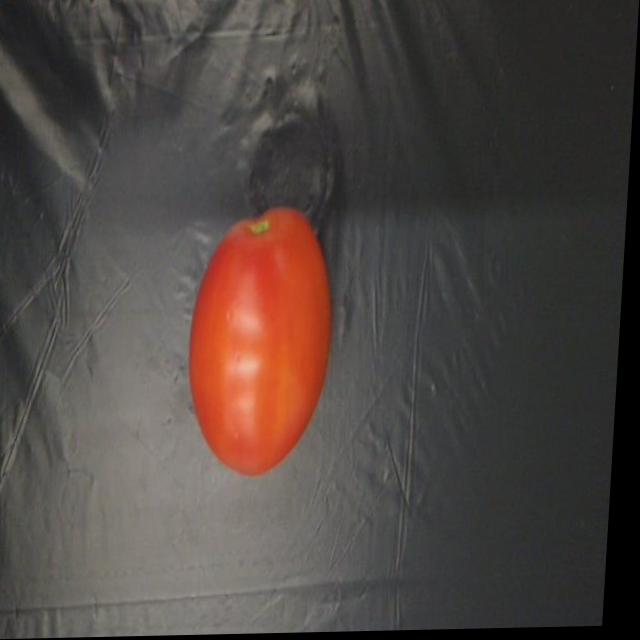kirmizi: (177, 199, 380, 493)
